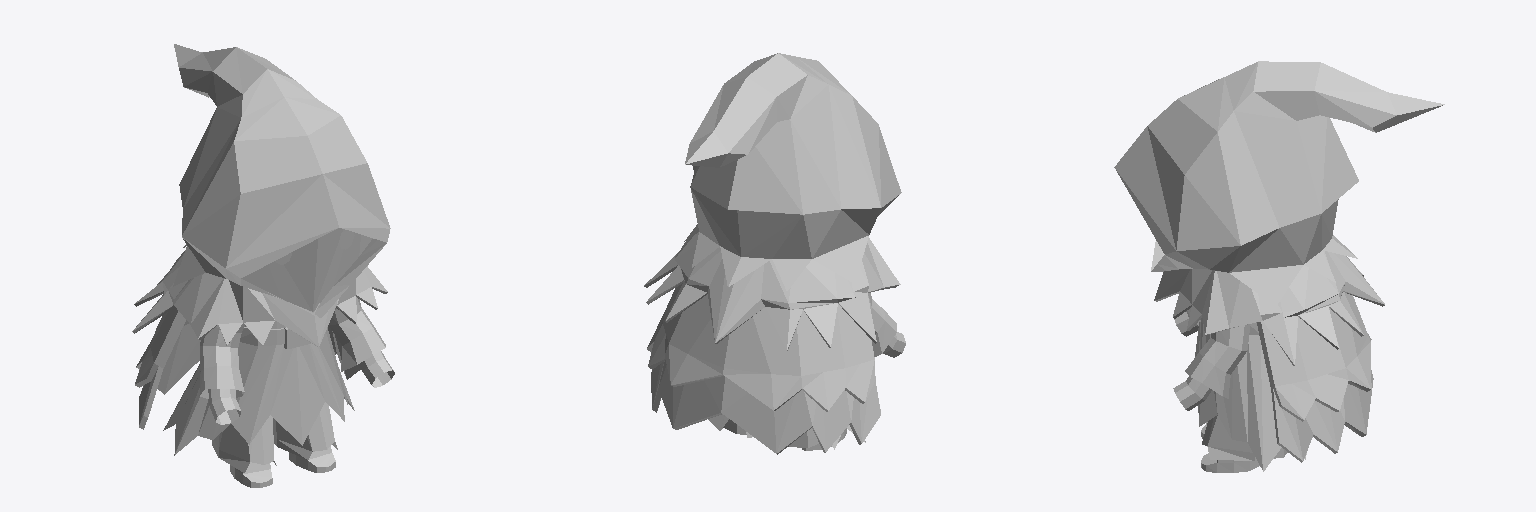
Rendered from druid.obj.
3 renders of one model, left to right at view 1: azimuth 30°, elevation 25°; view 2: azimuth 150°, elevation 25°; view 3: azimuth 270°, elevation 25°, orthographic.
Parts seen in each view (by area): view 1: Plane; view 2: Plane; view 3: Plane.
Boxes of the visible parts, box(x1,y1,x2,y2) form: Plane: box(132, 44, 394, 487); Plane: box(644, 53, 905, 454); Plane: box(1114, 61, 1444, 472).
Size of the model in its own units: 0.6157 by 0.9836 by 0.7579.